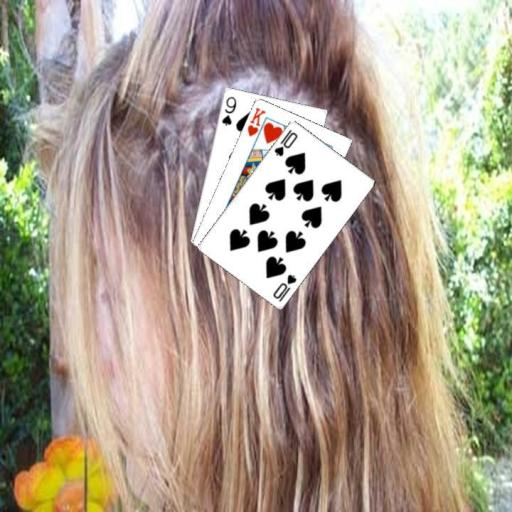10S: (269, 271, 298, 303), (271, 126, 299, 158)
9S: (219, 93, 238, 127)
KH: (244, 104, 267, 138)
